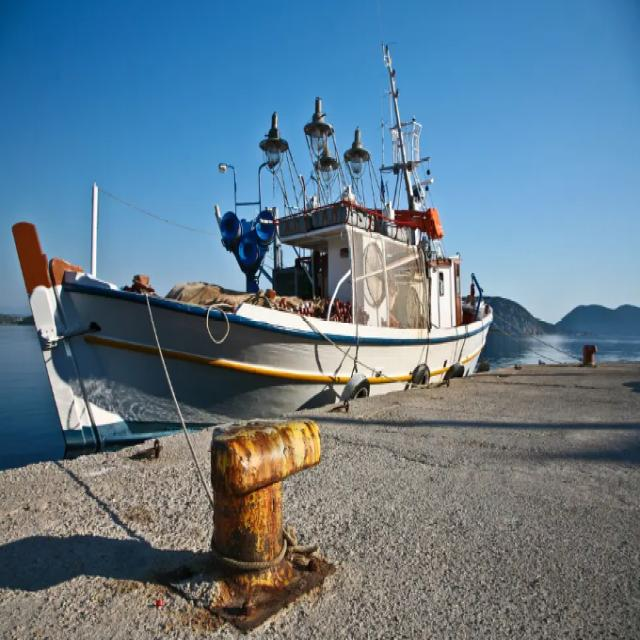fishing boat: (20, 52, 492, 450)
